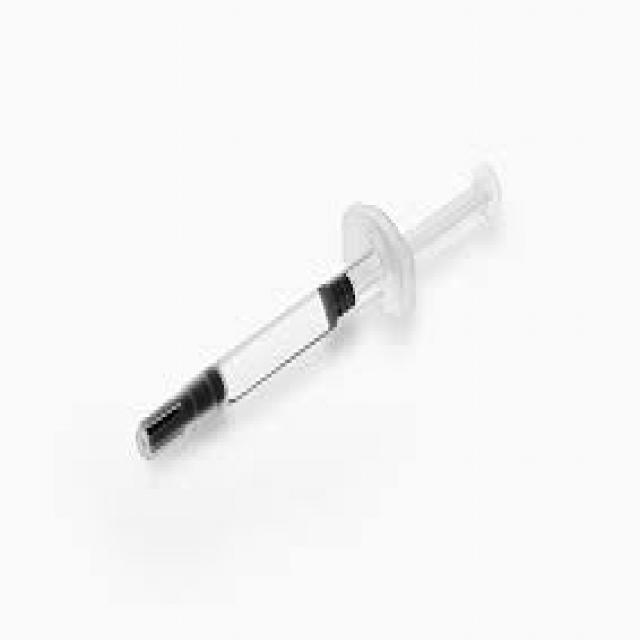syringe: (124, 143, 529, 488)
